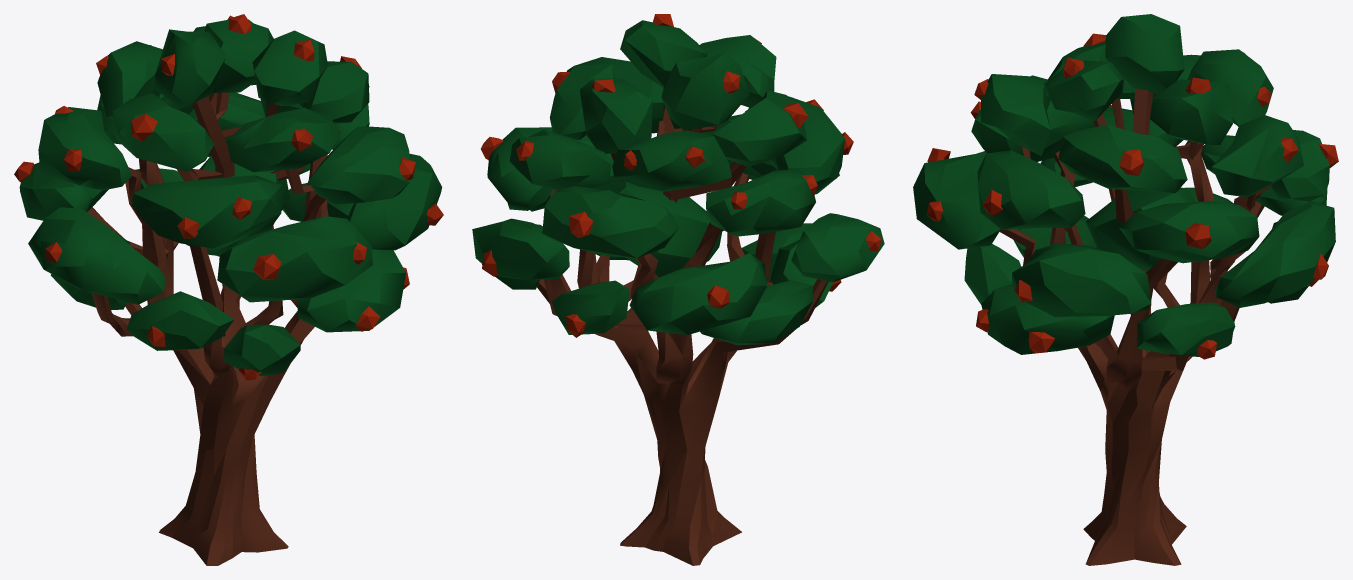
The model's file is Tree_1_Low_WF_1.fbx.
The picture shows the model from 3 angles, left to right: view 1: azimuth 30°, elevation 25°; view 2: azimuth 150°, elevation 25°; view 3: azimuth 270°, elevation 25°; orthographic projection. The views are drawn at different scales.
Parts seen in each view (by area): view 1: Tree_1_Low_WF_1; view 2: Tree_1_Low_WF_1; view 3: Tree_1_Low_WF_1.
Boxes of the visible parts, left/top/right/bottom form: Tree_1_Low_WF_1: left=14, top=14, right=443, bottom=565; Tree_1_Low_WF_1: left=472, top=14, right=884, bottom=565; Tree_1_Low_WF_1: left=913, top=14, right=1338, bottom=565.
Bounding box in the file's own units: 161 × 208 × 157.
